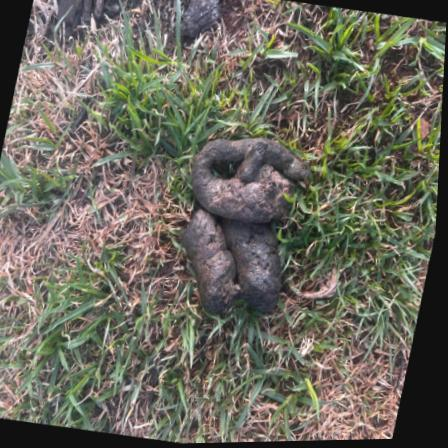dog-poop: (149, 90, 329, 347)
